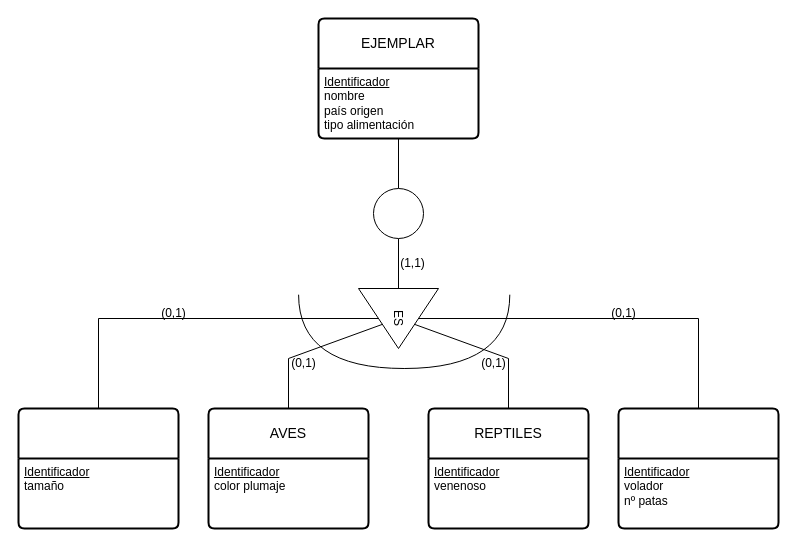
Some shapes in this 796 by 546 pixel diagram are drawn without their labels. The box of each missing label's shape, as (x1, y1, x2, y2) in pixels:
FELINOS: (17, 407, 179, 529)
INSECTOS: (617, 407, 779, 529)
